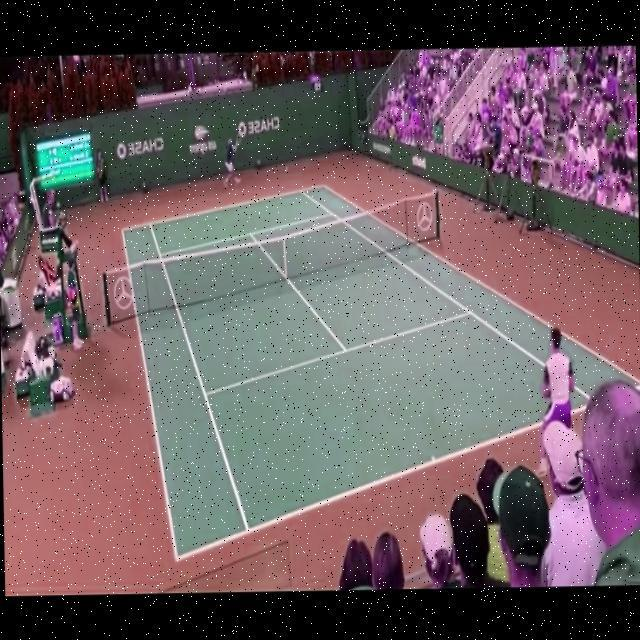court: (119, 179, 640, 565)
net: (100, 186, 442, 332)
player: (530, 324, 576, 482)
